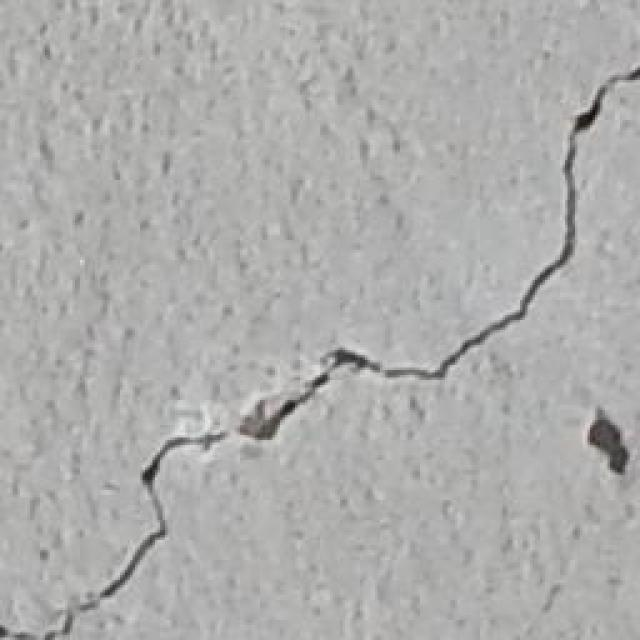concrete-crack: (55, 65, 637, 640), (585, 408, 632, 478)
